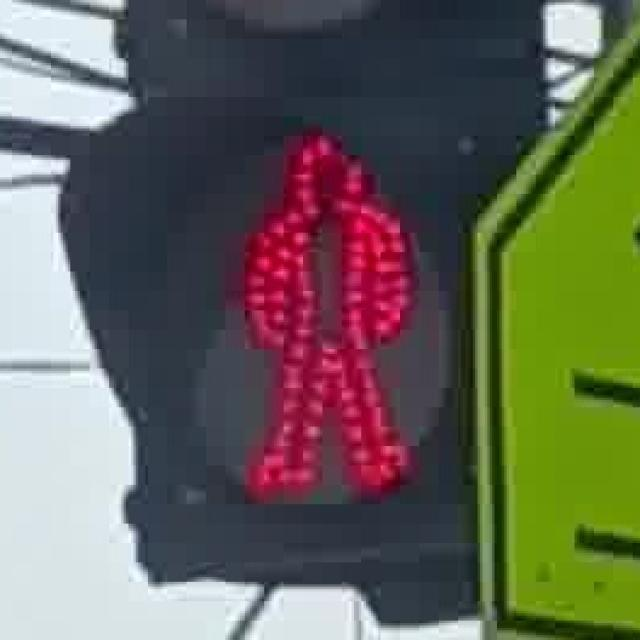red-crossing: (213, 111, 427, 512)
